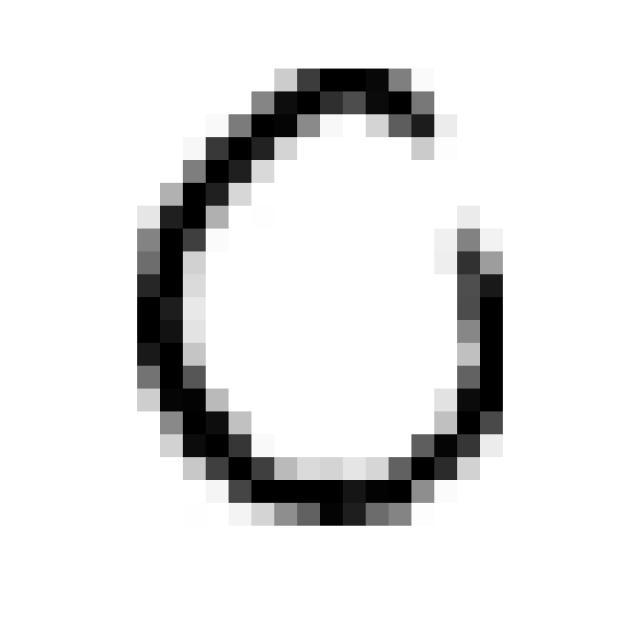5 -five-: (119, 53, 518, 539)
